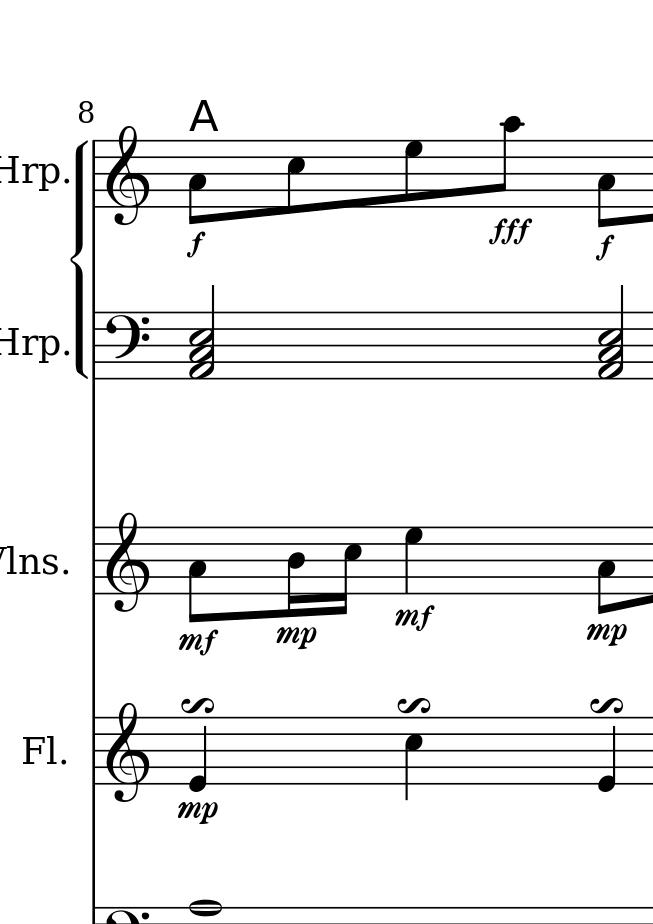16_4: (286, 524, 307, 620)
16_5: (331, 525, 363, 618)
2_th: (596, 283, 627, 385), (187, 283, 218, 382)
4_0: (596, 716, 618, 795), (187, 716, 208, 793)
4_5: (403, 715, 425, 800)
4_7: (402, 525, 426, 595)
8: (76, 97, 93, 126)
8_10: (495, 113, 524, 211)
8_3: (186, 523, 209, 621), (596, 137, 618, 232), (595, 525, 617, 614), (188, 137, 209, 226)
8_5: (283, 137, 306, 215)
8_7: (402, 138, 425, 208)
Brace: (70, 139, 88, 380)
Fclef: (105, 310, 150, 382)
Fl: (21, 730, 58, 771)
Gclef: (105, 123, 153, 227), (105, 702, 153, 804), (104, 513, 149, 614)
Hrp: (1, 324, 65, 363), (1, 150, 61, 191)
Inverted_turn: (178, 695, 216, 715), (394, 695, 430, 715), (586, 695, 623, 714)
Single_barline: (86, 526, 102, 597), (87, 139, 102, 208), (87, 717, 102, 785), (89, 312, 101, 378)
f: (592, 229, 619, 260), (184, 230, 209, 258)
fff: (486, 216, 532, 250)
mf: (178, 624, 221, 658), (393, 601, 436, 631)
mp: (275, 621, 324, 652), (170, 798, 222, 825), (587, 614, 627, 648)
